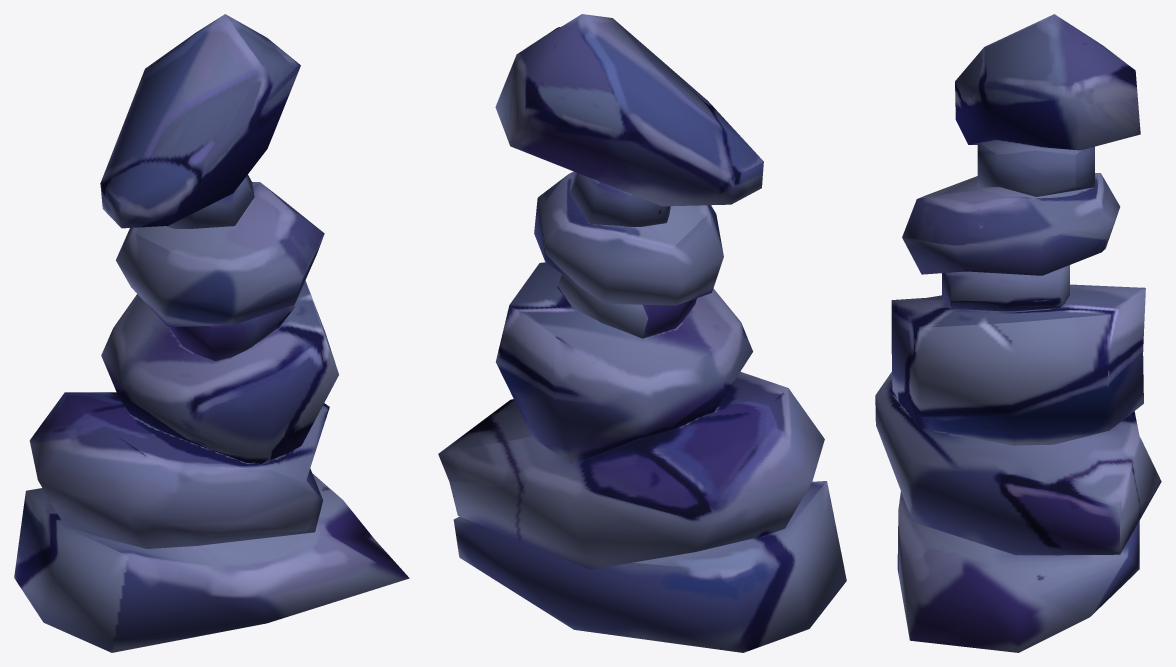
The model's file is SM_Cairn_01.fbx.
The picture shows the model from 3 angles, left to right: view 1: azimuth 30°, elevation 25°; view 2: azimuth 150°, elevation 25°; view 3: azimuth 270°, elevation 25°; orthographic projection. The views are drawn at different scales.
Visible parts, largest first — view 1: SM_Cairn_01; view 2: SM_Cairn_01; view 3: SM_Cairn_01.
Boxes of the visible parts, <box> form: SM_Cairn_01: <box>14,14,409,652</box>; SM_Cairn_01: <box>438,14,846,652</box>; SM_Cairn_01: <box>875,14,1161,652</box>.
Bounding box in the file's own units: 117 × 183 × 82.85.
